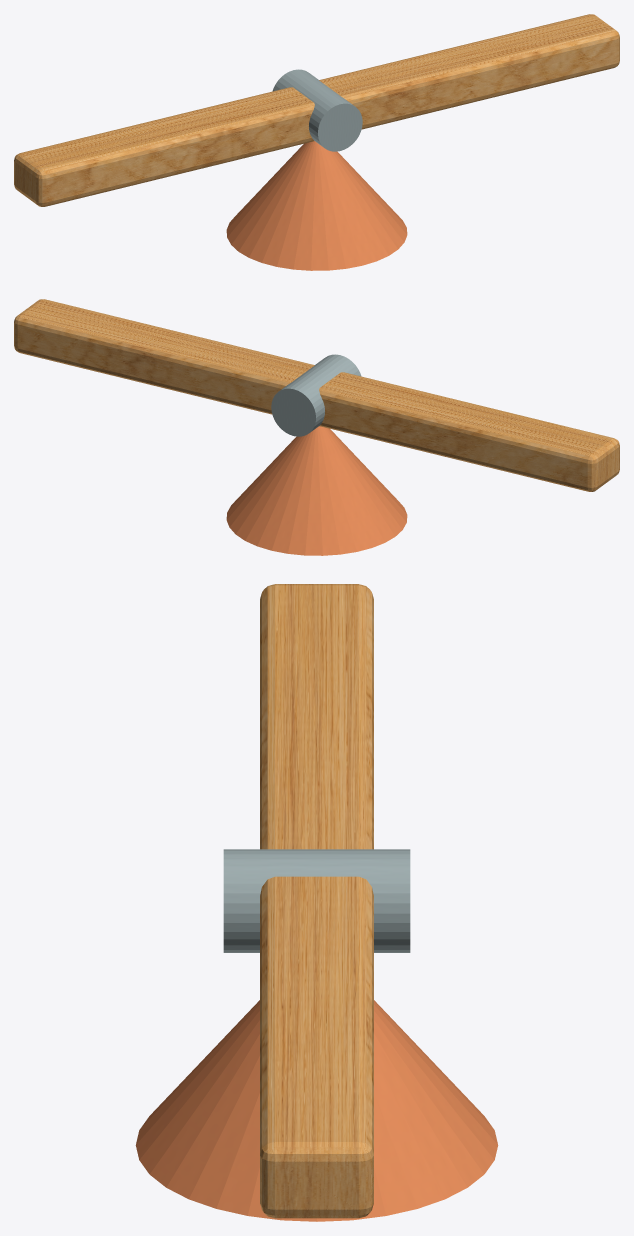
File: lever.glb
The picture shows the model from 3 angles, top to bottom: view 1: azimuth 30°, elevation 25°; view 2: azimuth 150°, elevation 25°; view 3: azimuth 270°, elevation 25°; orthographic projection. The views are drawn at different scales.
Visible parts, largest first — view 1: Lever_Beam, Fulcrum, Pivot_Pin; view 2: Lever_Beam, Fulcrum, Pivot_Pin; view 3: Lever_Beam, Fulcrum, Pivot_Pin.
Boxes of the visible parts, bbox=[...] form: Lever_Beam: bbox=[14, 14, 619, 206]; Fulcrum: bbox=[226, 141, 407, 270]; Pivot_Pin: bbox=[272, 69, 362, 151]; Lever_Beam: bbox=[14, 299, 619, 491]; Fulcrum: bbox=[226, 426, 407, 555]; Pivot_Pin: bbox=[271, 354, 361, 436]; Lever_Beam: bbox=[260, 584, 373, 1218]; Fulcrum: bbox=[135, 1000, 498, 1221]; Pivot_Pin: bbox=[223, 849, 410, 952].
Bounding box in the file's own units: 2.6 × 0.62 × 0.7.
3 materials, 3 textured.
